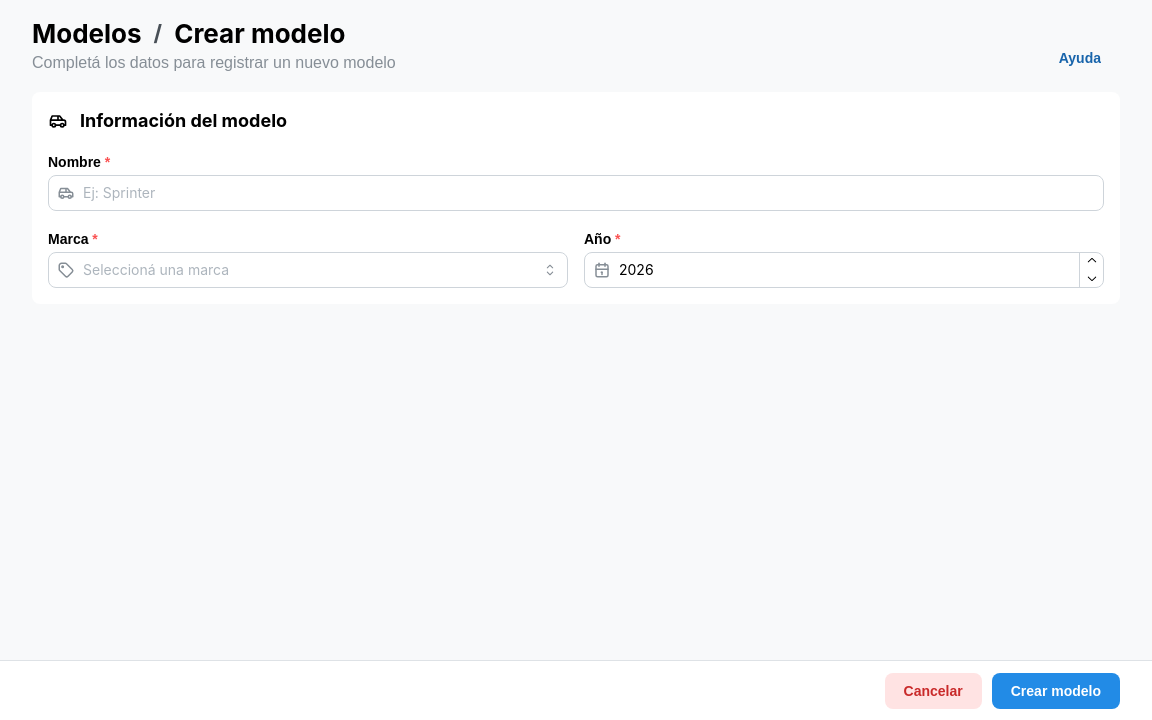
Test case: CrearModelo › año fuera de rango (1800): error inline, sin clamp silencioso y sin guardar (SHG-FE-107)
Type "Sprinter" into the field labelled "Nombre *".
click(576, 193); type("Sprinter")  # box [48, 175, 1104, 211]
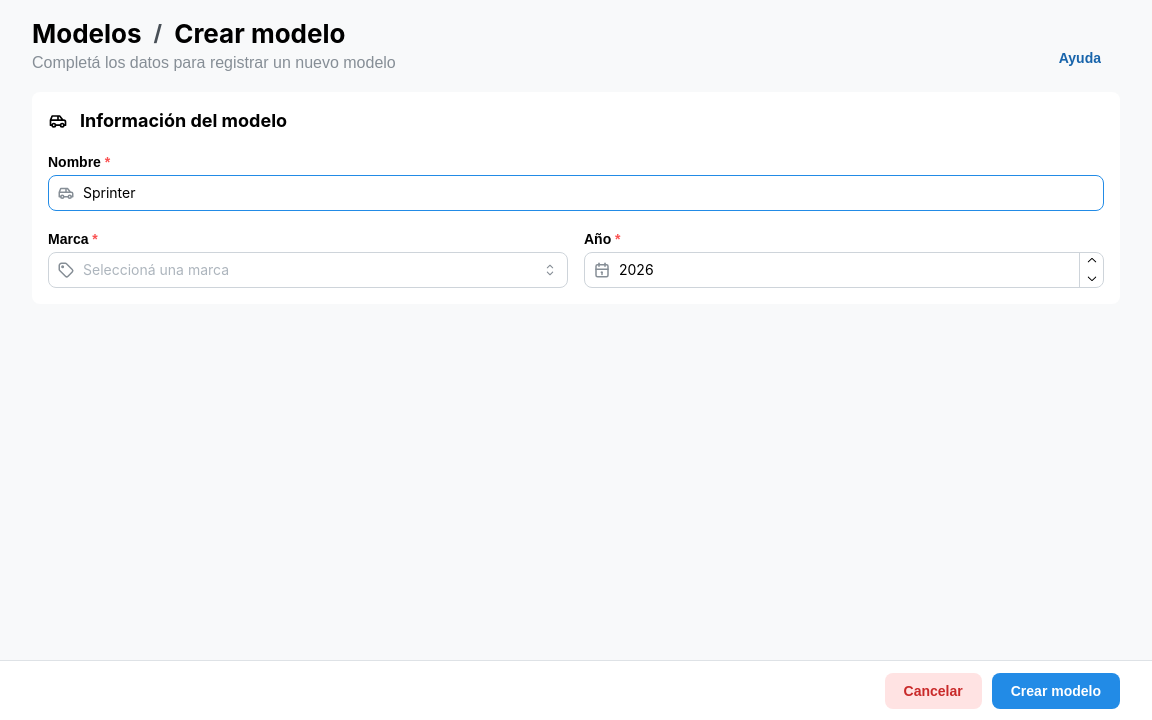
Click the dropdown labelled "Marca *".
click(308, 270)  # box [48, 252, 568, 288]
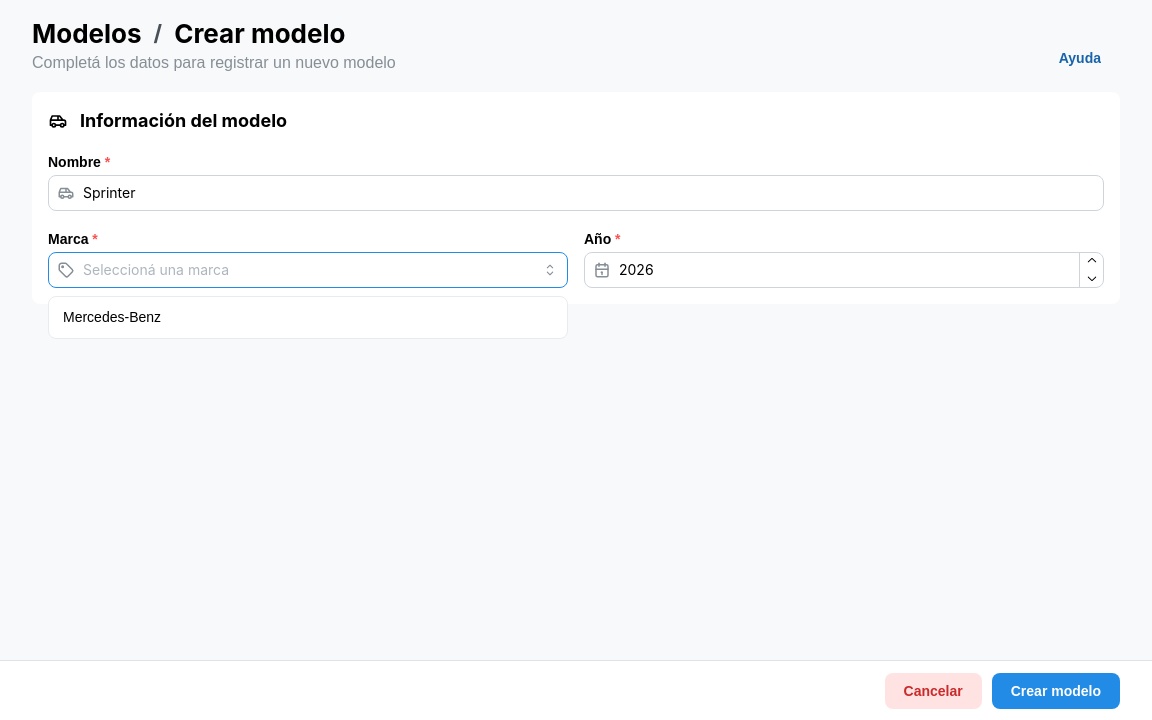
Click the option "Mercedes-Benz".
click(112, 317)  # box [63, 309, 161, 325]
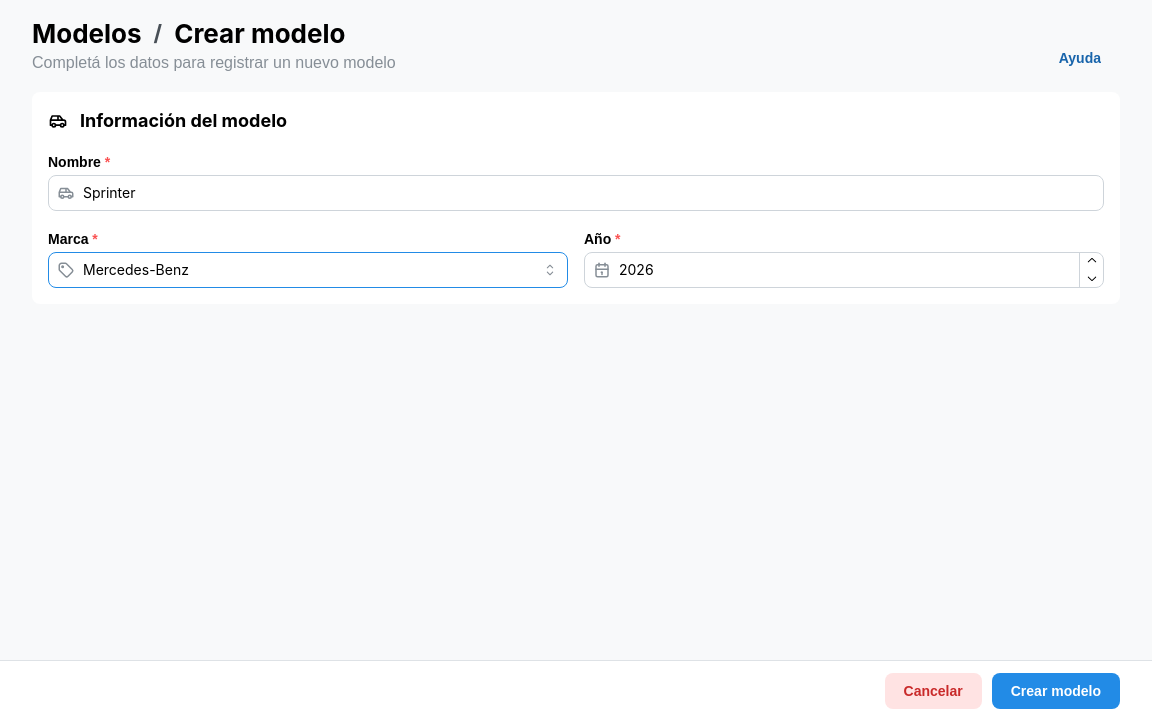
Replace the text in the field labelled "Año *" with "1800" at (844, 270), box [584, 252, 1104, 288]
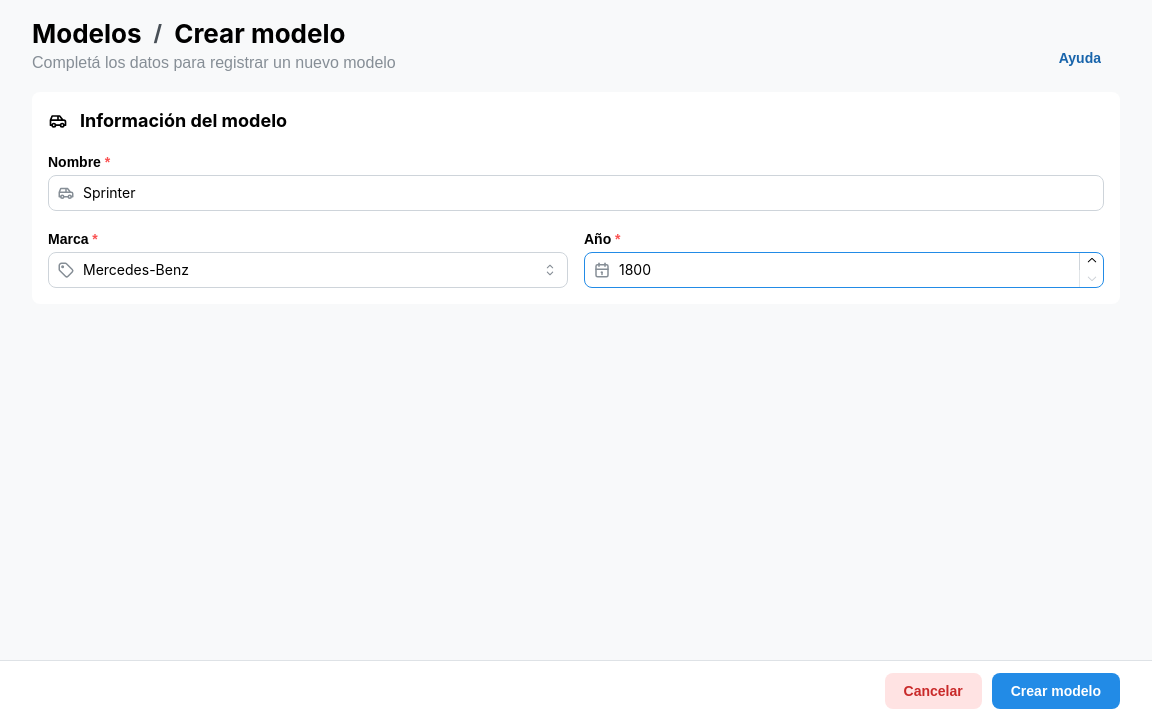
Click the button "Crear modelo".
click(1056, 690)  # box [992, 672, 1120, 708]
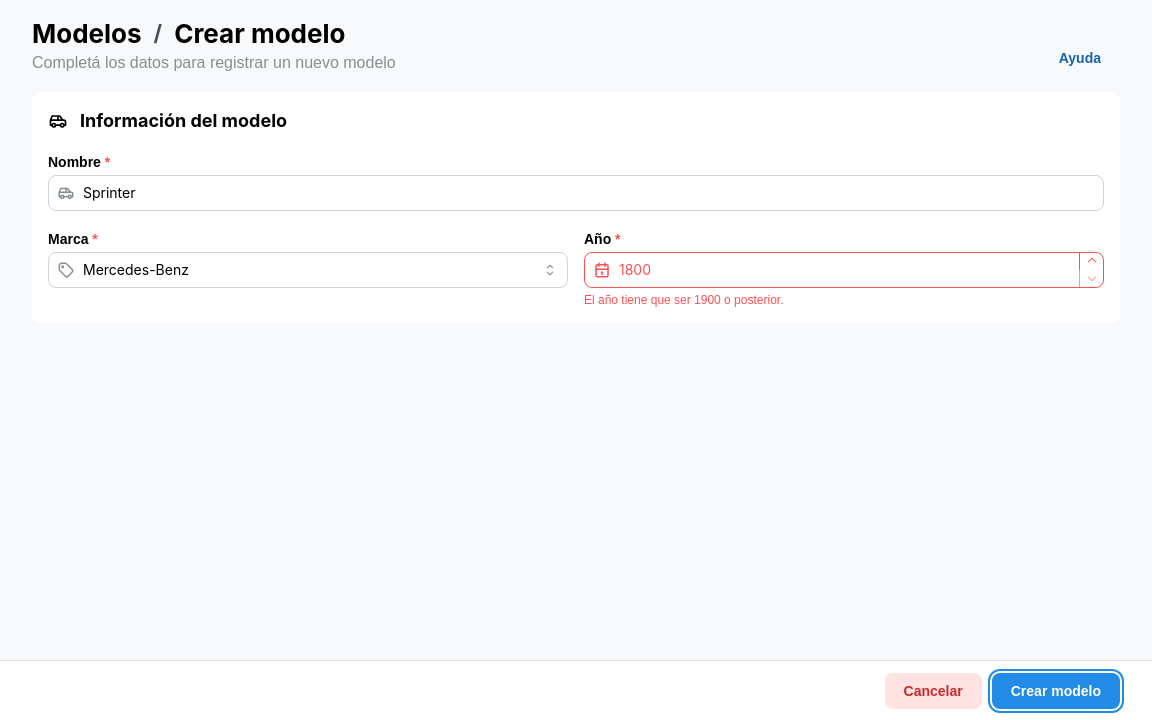
Expected: the text "El año tiene que ser 1900 o posterior." is shown, [584, 293, 784, 307]
